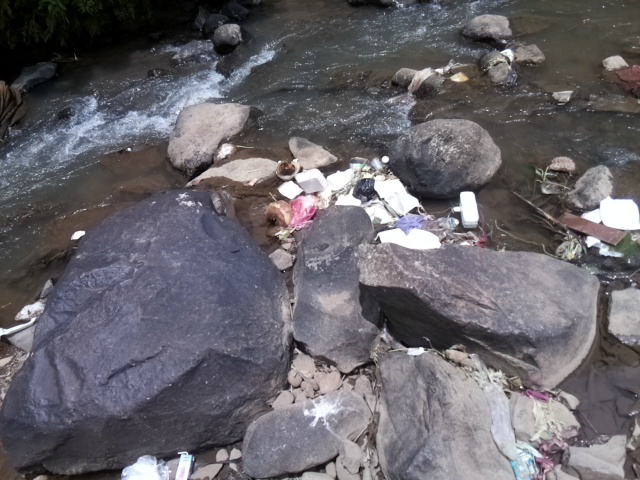Sampah_Plastik: (114, 453, 173, 480), (286, 197, 322, 229), (353, 174, 377, 201)
Sampah_Styrofoam: (373, 173, 422, 216), (587, 194, 640, 232), (375, 227, 442, 256), (452, 188, 481, 230), (293, 169, 327, 195), (1, 314, 38, 336), (328, 166, 355, 195), (330, 194, 364, 207), (70, 227, 86, 241)
